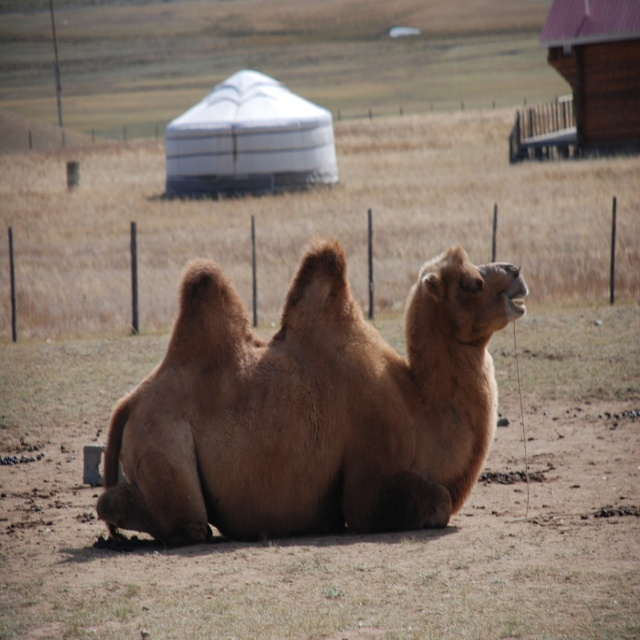Camel: (97, 229, 529, 549)
